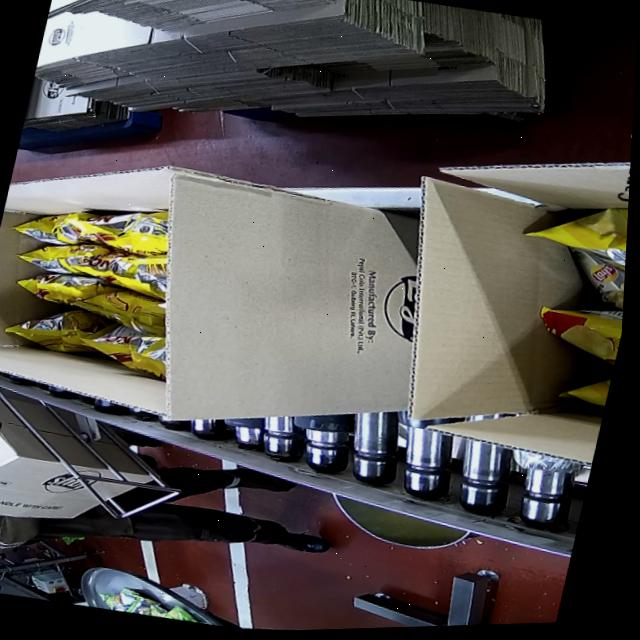SALTED: (0, 182, 188, 378), (503, 190, 629, 421)
